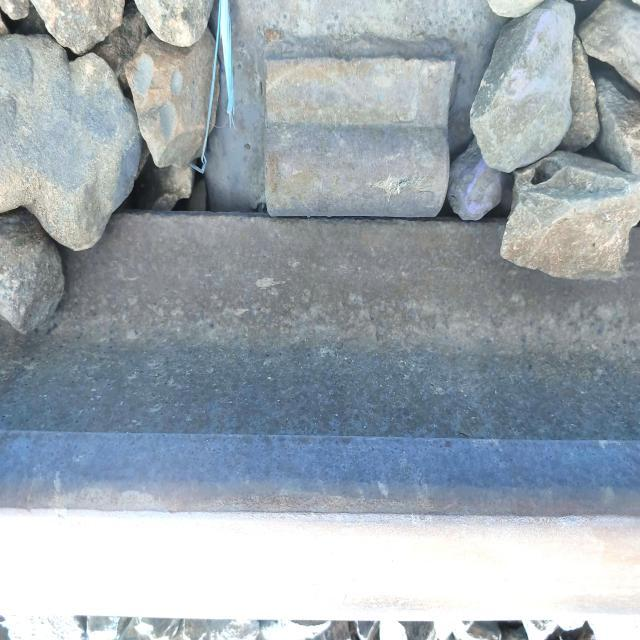Missing Fastener: (254, 30, 470, 248)
